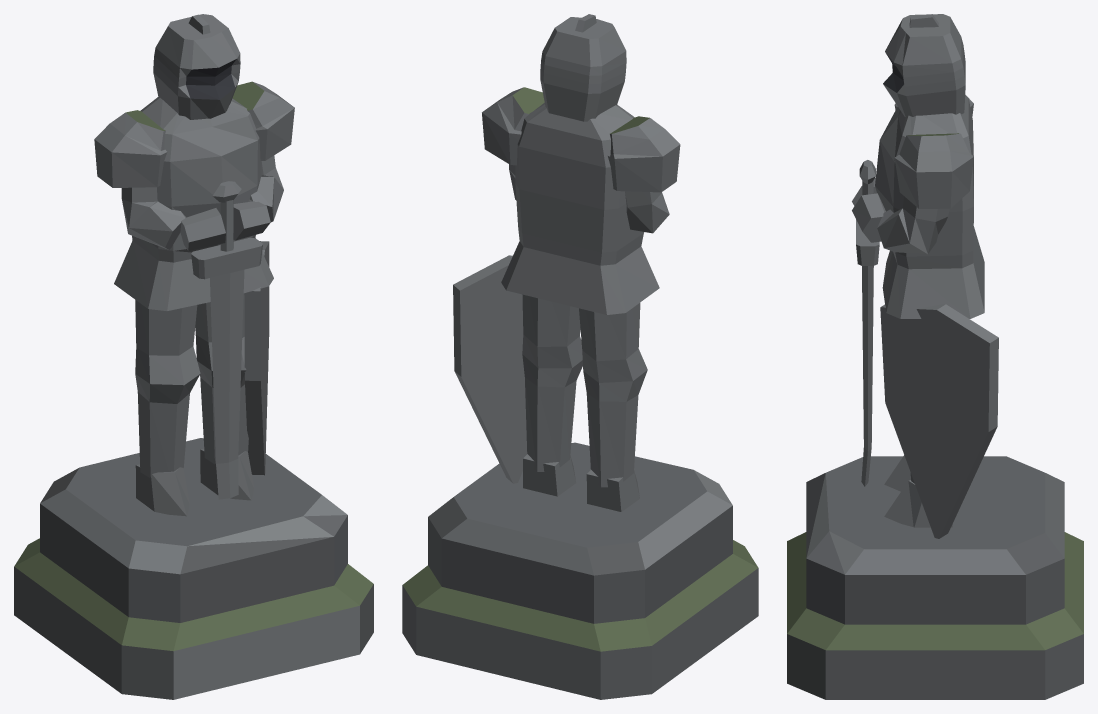
Rendered from standing-knight-statue-8bdcc9.glb.
3 renders of one model, left to right at view 1: azimuth 30°, elevation 25°; view 2: azimuth 150°, elevation 25°; view 3: azimuth 270°, elevation 25°, orthographic. The views are drawn at different scales.
Parts seen in each view (by area): view 1: standing-knight-statue-mesh; view 2: standing-knight-statue-mesh; view 3: standing-knight-statue-mesh.
Boxes of the visible parts, x1,y1,x2,y2 form: standing-knight-statue-mesh: (14,14,373,699); standing-knight-statue-mesh: (402,14,758,699); standing-knight-statue-mesh: (787,14,1083,699).
Bounding box in the file's own units: 1 × 2.31 × 1.
